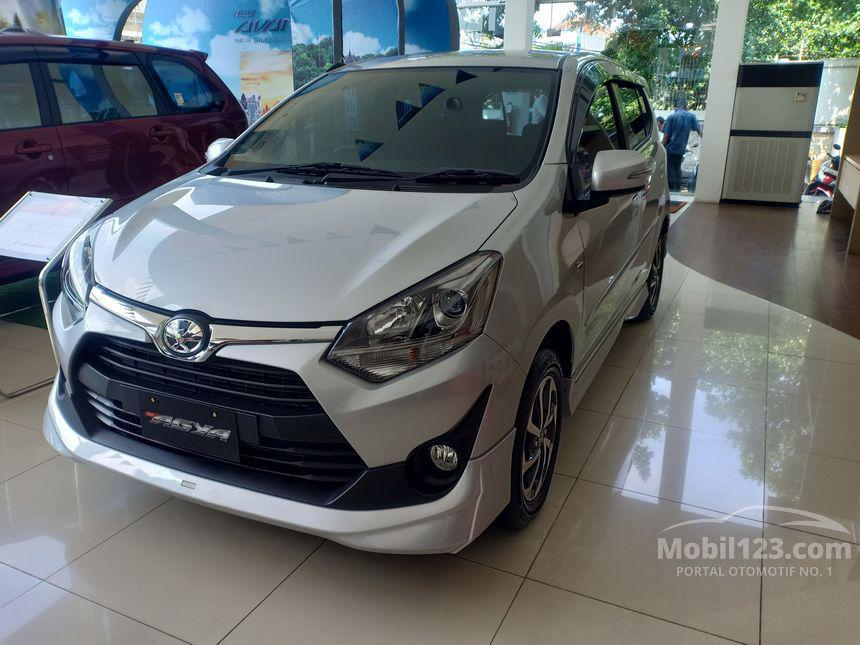mobil: (17, 25, 690, 567)
